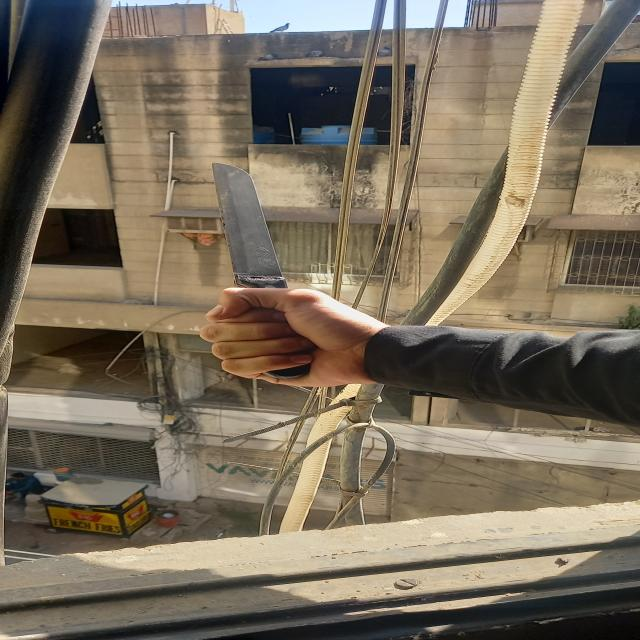senjata_tajam: (213, 164, 294, 290)
